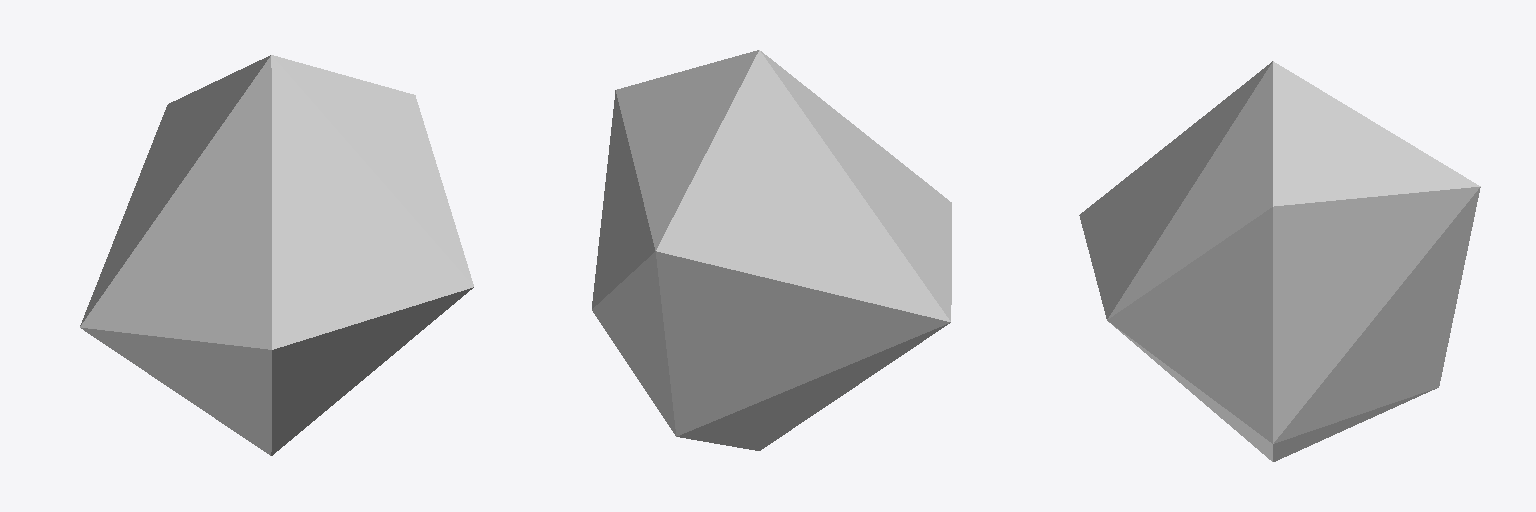
Rendered from asteroid.obj.
3 renders of one model, left to right at view 1: azimuth 30°, elevation 25°; view 2: azimuth 150°, elevation 25°; view 3: azimuth 270°, elevation 25°, orthographic.
Parts seen in each view (by area): view 1: obj1.004; view 2: obj1.004; view 3: obj1.004.
Part boxes in pixels (left/top/right/bottom): obj1.004: left=80, top=55, right=473, bottom=455; obj1.004: left=592, top=50, right=951, bottom=450; obj1.004: left=1079, top=61, right=1480, bottom=461.
Size of the model in its own units: 150 by 160 by 145.